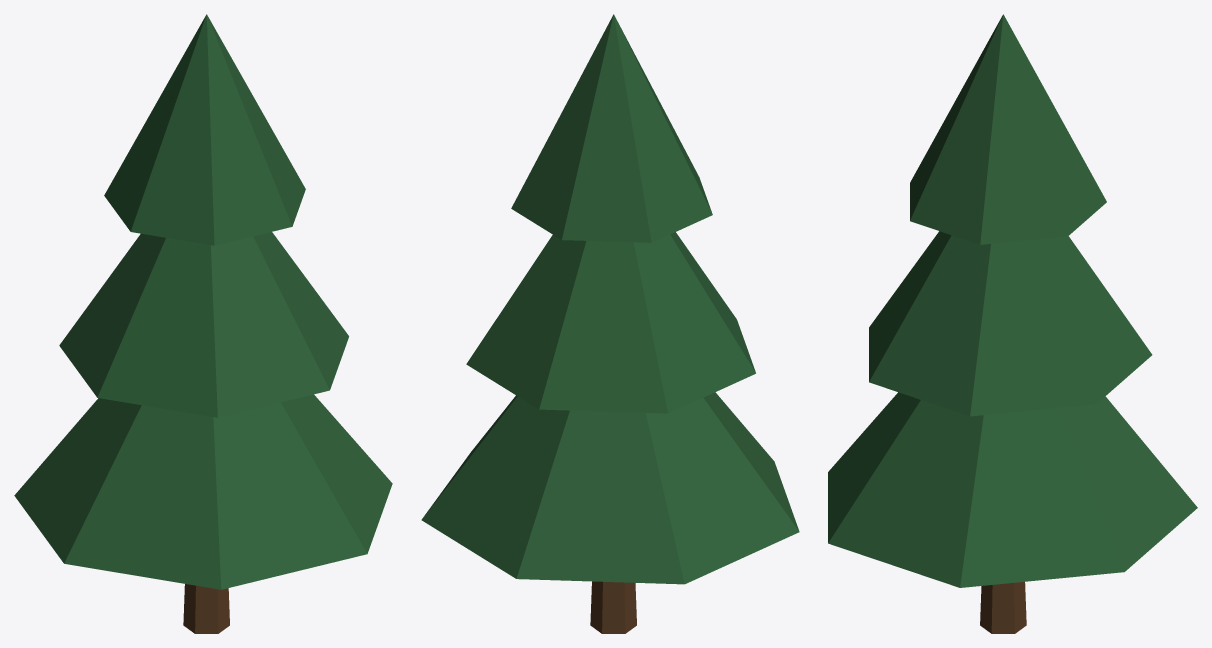
Rendered from pine.glb.
The picture shows the model from 3 angles, left to right: view 1: azimuth 30°, elevation 25°; view 2: azimuth 150°, elevation 25°; view 3: azimuth 270°, elevation 25°; orthographic projection.
Visible parts, largest first — view 1: pine; view 2: pine; view 3: pine.
Part boxes in pixels (bbox=[...]): pine: bbox=[14, 14, 392, 633]; pine: bbox=[421, 14, 799, 633]; pine: bbox=[828, 14, 1197, 633].
Bounding box in the file's own units: 2.92 × 5.2 × 2.85.
